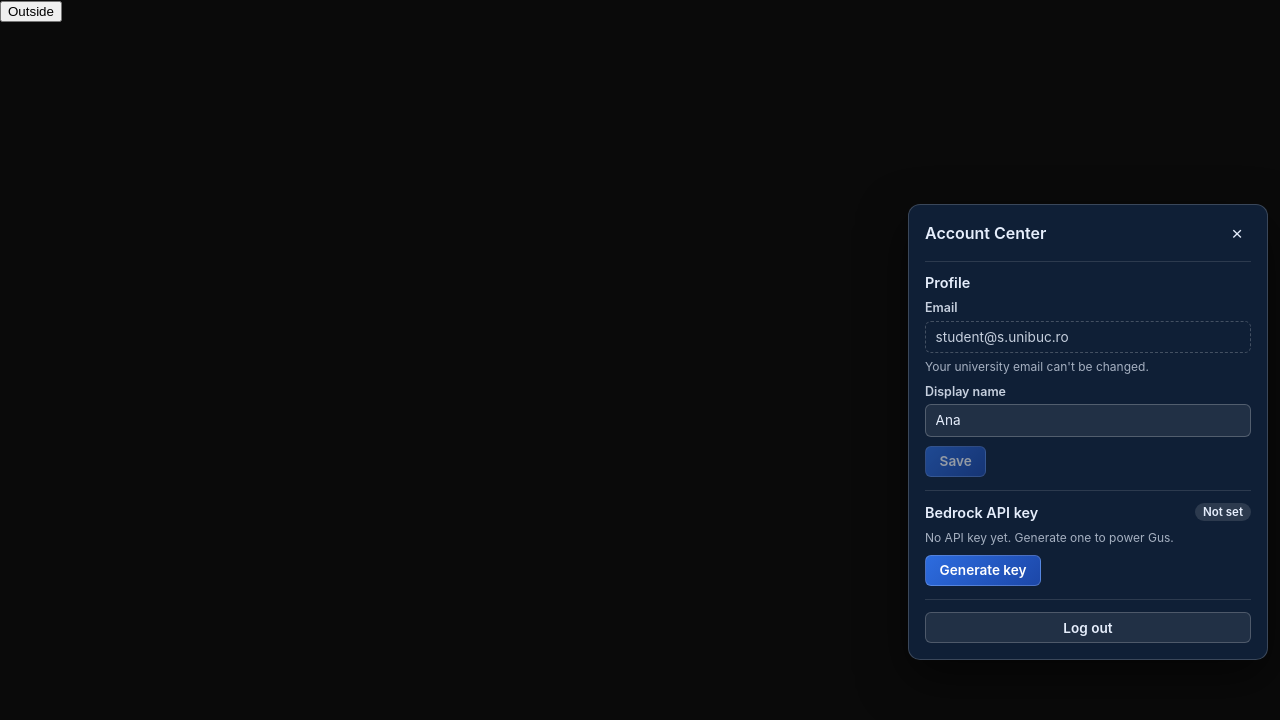
Test case: AccountCenter profile › saves an edited display name, trimmed, and confirms it
Check: the button "Save" is disabled, box [925,446,986,477]
Step 1. Replace the text in the field labelled "Display name" with "  Ana Maria  " → (1088, 420), box [925,404,1251,436]
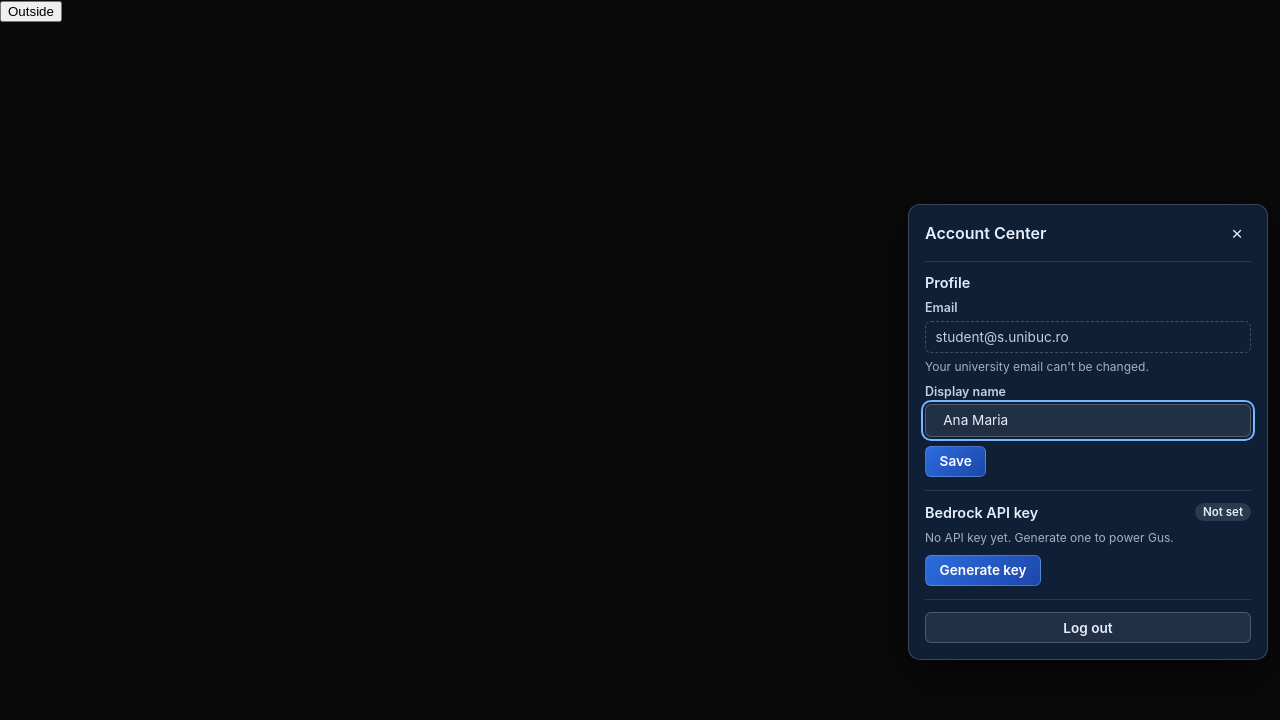
Step 2. Click the button "Save" → (956, 462), box [925,446,986,477]
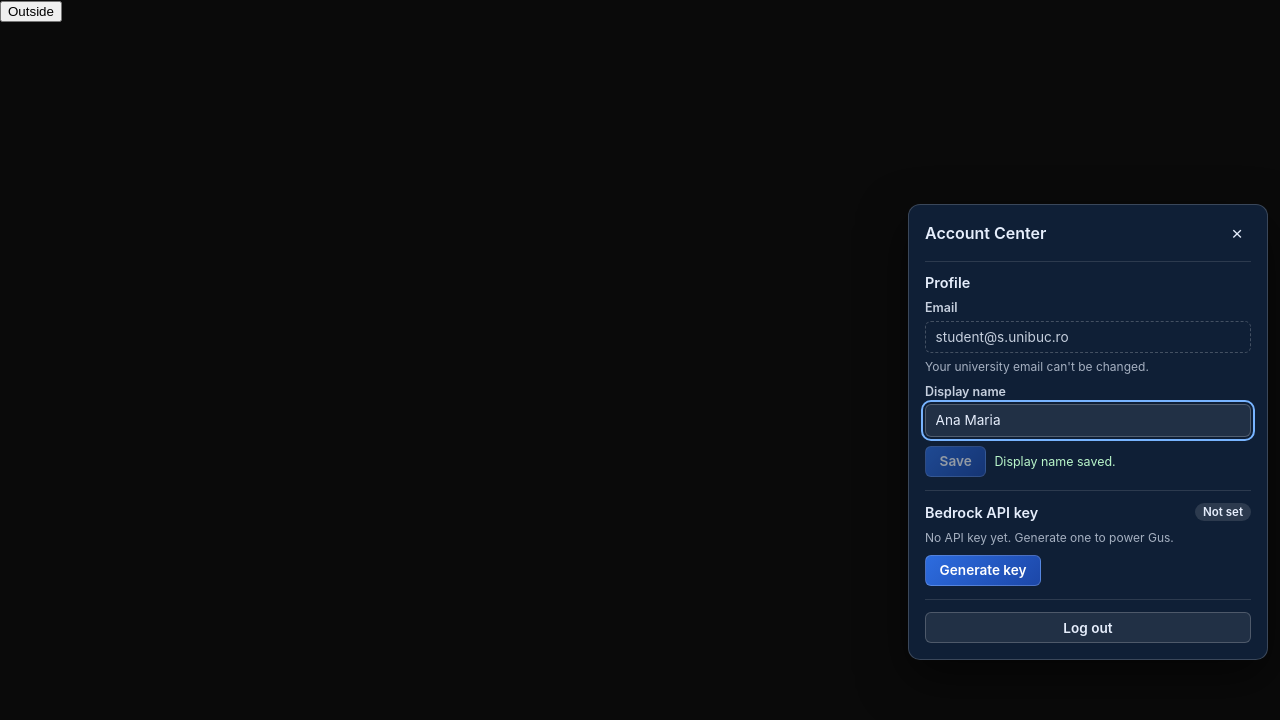
Check: the button named "Saving…" is disabled, box [925,446,986,477]
Check: the message with test id "account-center-profile-status" reads "Display name saved.", box [994,454,1116,469]
Check: the button "Save" is disabled, box [925,446,986,477]
